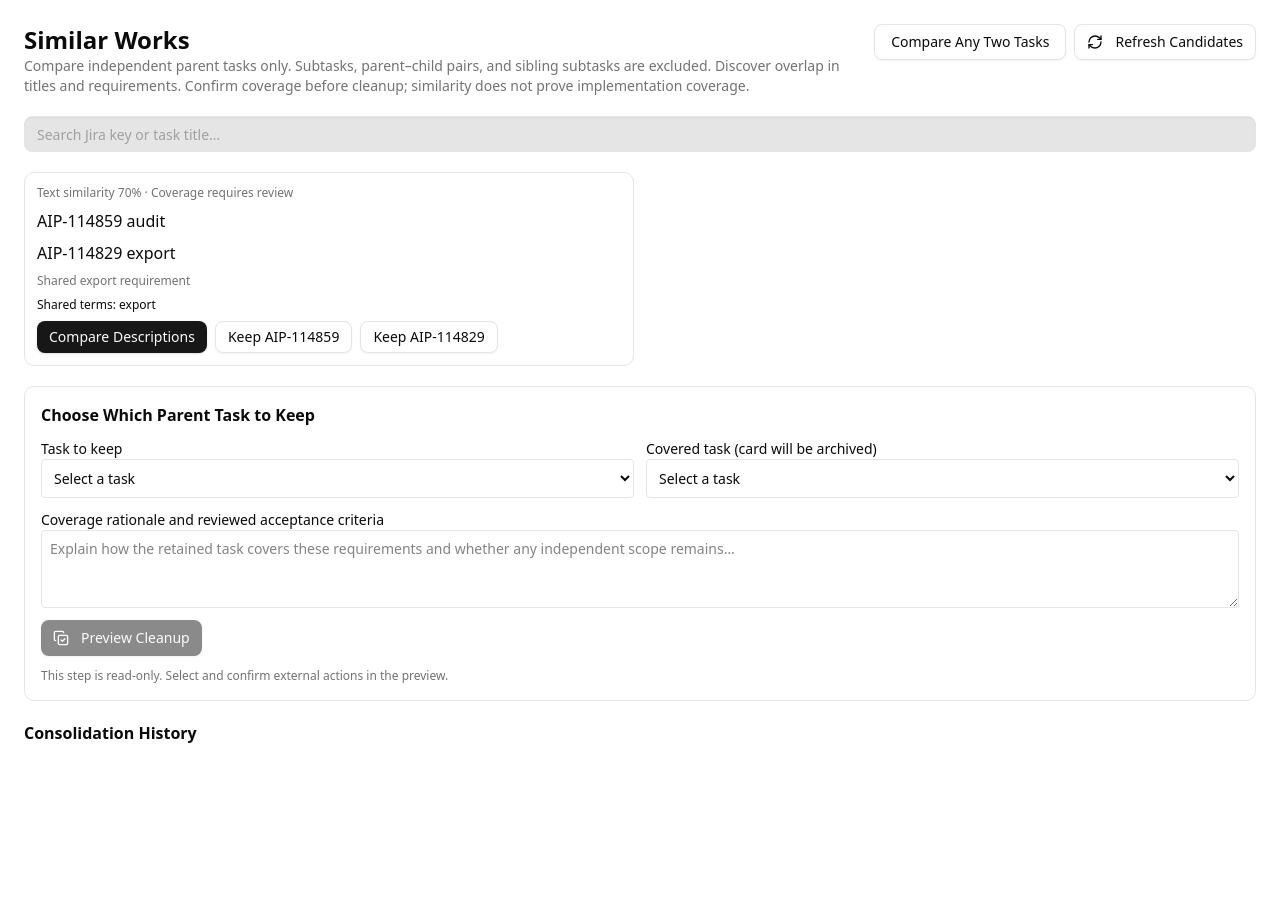
Test: similar task review flow › allows manual comparison without choosing a cleanup direction or writing a reason
Click the button "Compare Any Two Tasks": [970, 42] box left=874, top=24, right=1066, bottom=60
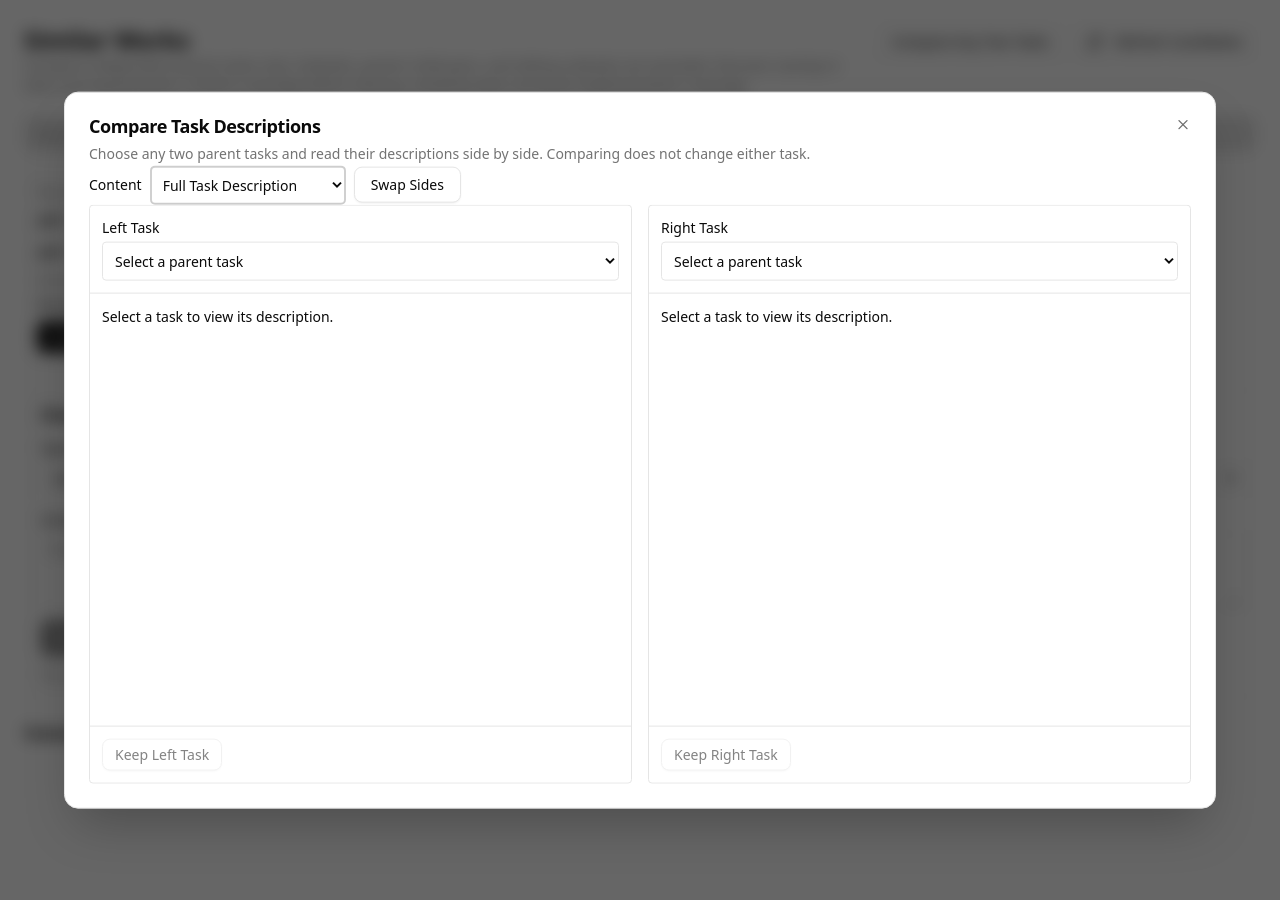
Select "AIP-114859 audit" in the dropdown labelled "Left Task": [360, 261] box left=102, top=241, right=619, bottom=280
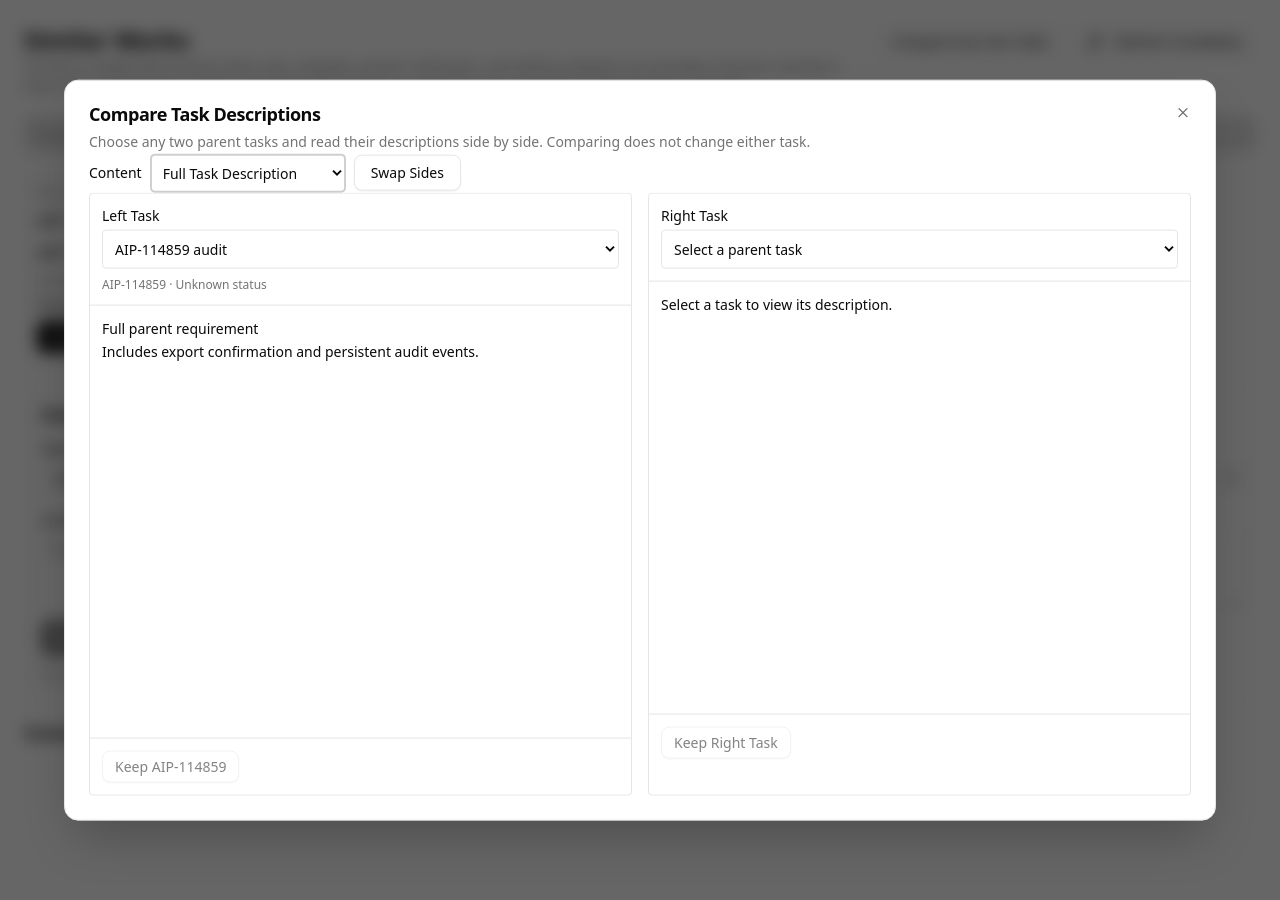
Select "AIP-114859 audit" in the dropdown labelled "Right Task": [920, 249] box left=661, top=229, right=1178, bottom=268
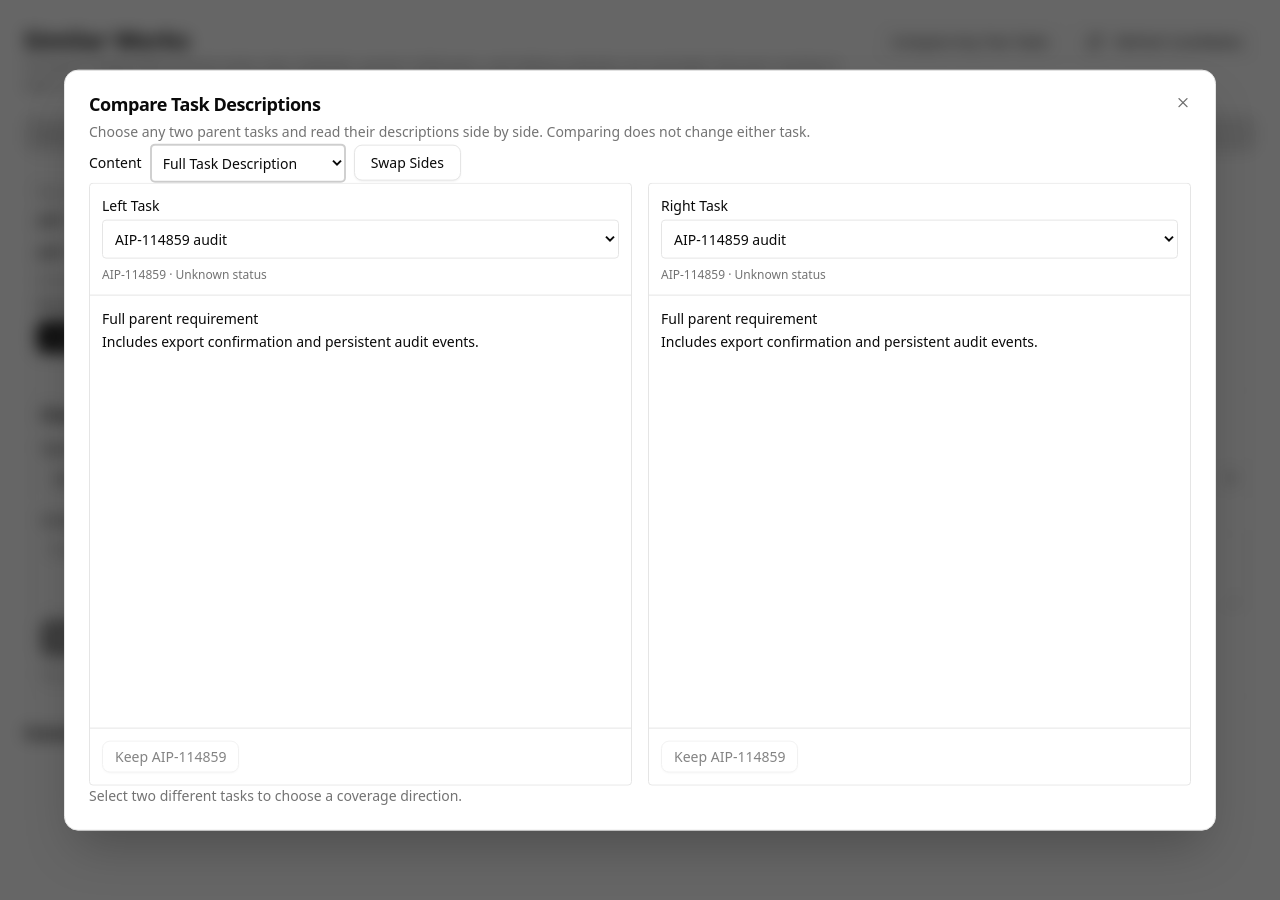
Select "AIP-114829 export" in the dropdown labelled "Right Task": [920, 239] box left=661, top=219, right=1178, bottom=258
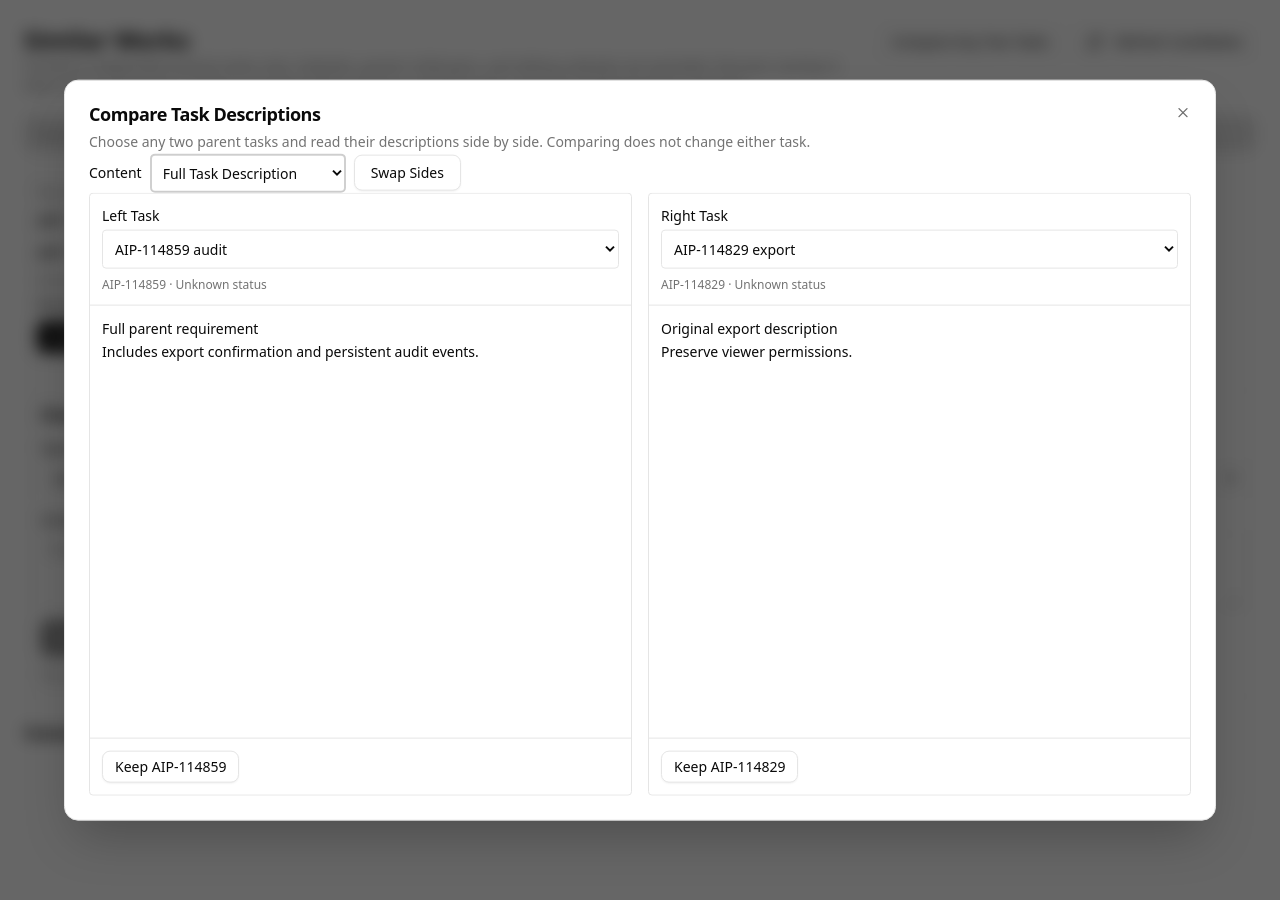
expect the text "Original export description Preserve viewer permissions." is shown: met, box left=661, top=318, right=852, bottom=360
